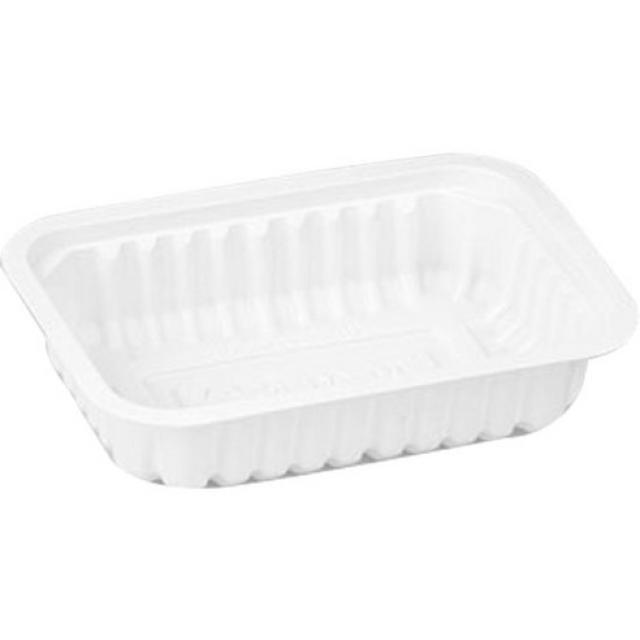disposable: (23, 160, 640, 500)
